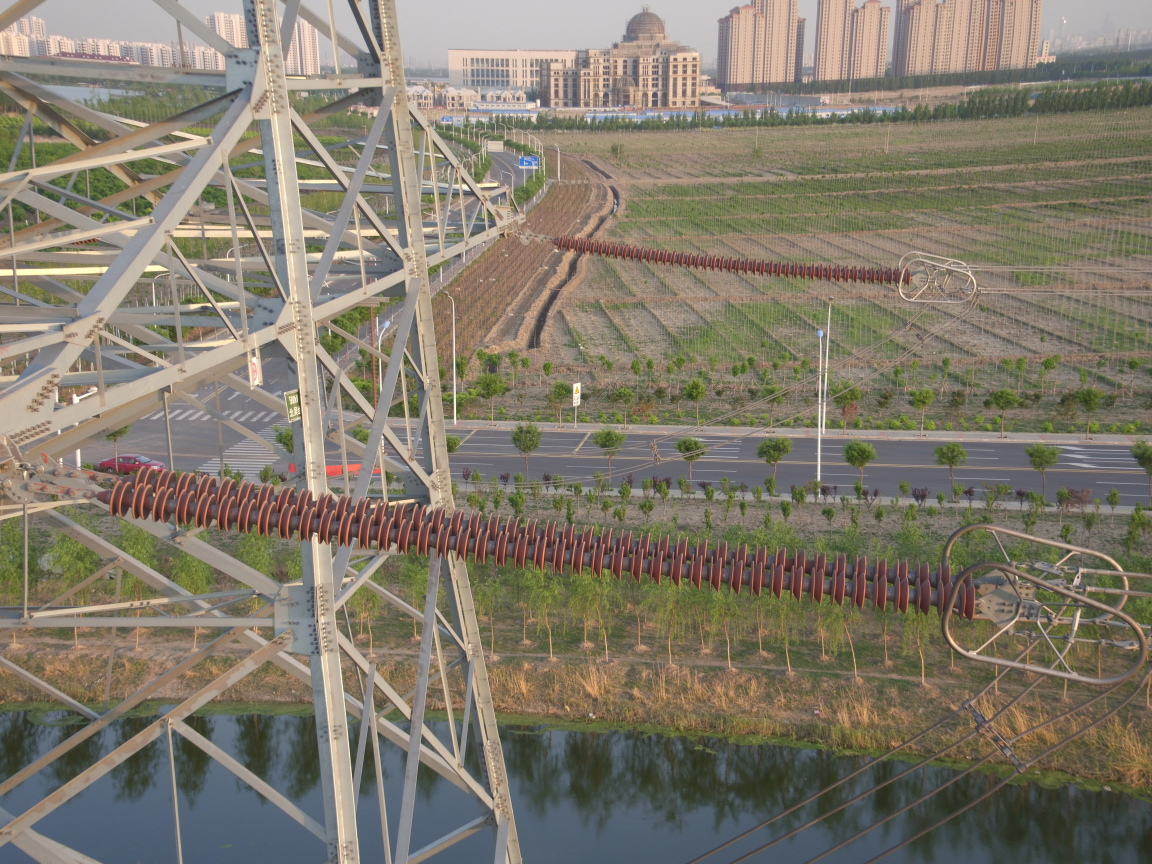insulator: (66, 459, 994, 624), (534, 235, 921, 288)
